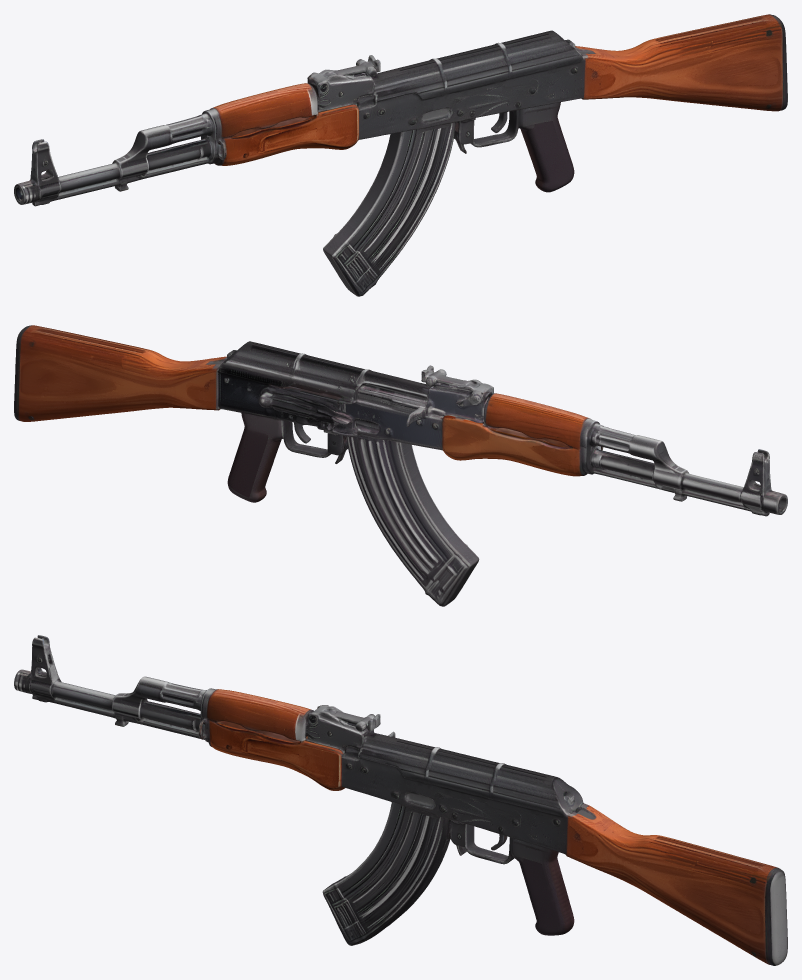
Rendered from Meshy_AI_ak47_1012115706_texture.glb.
The picture shows the model from 3 angles, top to bottom: view 1: azimuth 30°, elevation 25°; view 2: azimuth 150°, elevation 25°; view 3: azimuth 330°, elevation 25°; orthographic projection.
Parts seen in each view (by area): view 1: mesh_node; view 2: mesh_node; view 3: mesh_node.
Boxes of the visible parts, bbox=[...] form: mesh_node: bbox=[14, 14, 787, 296]; mesh_node: bbox=[14, 325, 787, 606]; mesh_node: bbox=[14, 635, 787, 965].
Bounding box in the file's own units: 1.9 × 0.5485 × 0.1617.
1 material, 1 textured.
